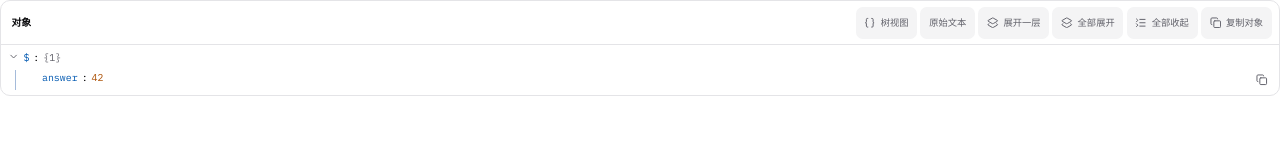
Test case: console JSON inspector › copies the current object and announces the result
Click the button "复制对象" at [1236, 23], box top-left (1201, 7), bottom-right (1272, 39)
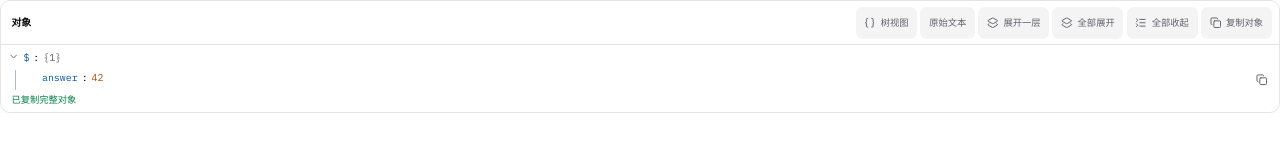
Now the message reads "已复制完整对象", box top-left (11, 94), bottom-right (76, 105)
